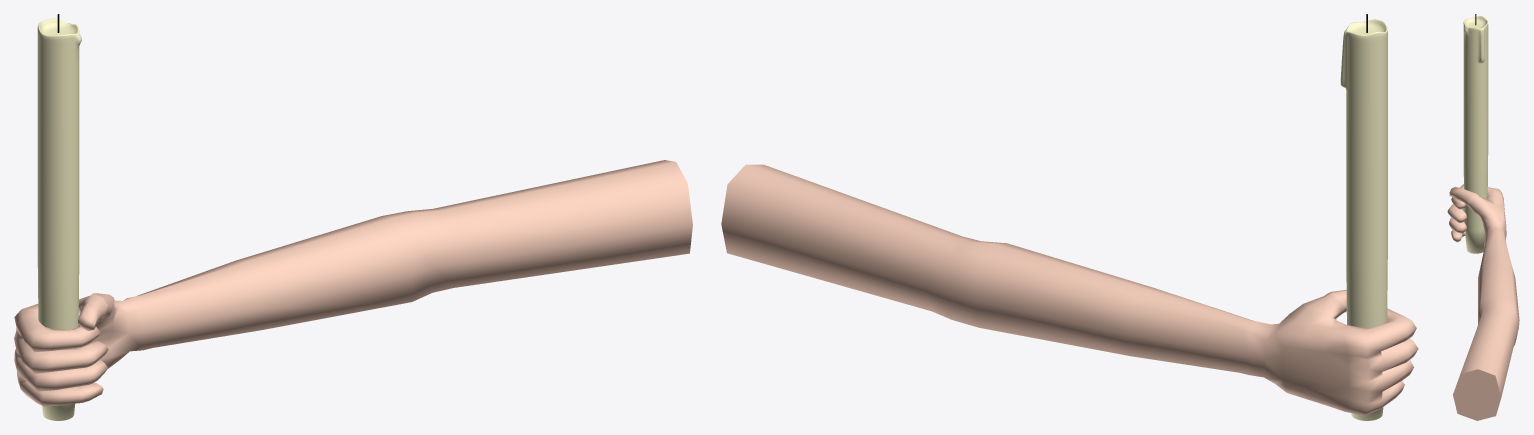
The model's file is ArmCandle.FBX.
3 views of the same model, side by side, from view 1: azimuth 30°, elevation 25°; view 2: azimuth 150°, elevation 25°; view 3: azimuth 270°, elevation 25° (orthographic). The views are drawn at different scales.
Parts seen in each view (by area): view 1: Arm, CandleBottom, CandleTop; view 2: Arm, CandleBottom, CandleTop; view 3: Arm, CandleBottom, CandleTop.
Boxes of the visible parts, left/top/right/bottom form: Arm: left=14, top=160, right=692, bottom=406; CandleBottom: left=37, top=93, right=79, bottom=420; CandleTop: left=37, top=18, right=81, bottom=100; Arm: left=721, top=164, right=1418, bottom=415; CandleBottom: left=1346, top=92, right=1387, bottom=420; CandleTop: left=1340, top=19, right=1387, bottom=100; Arm: left=1447, top=184, right=1519, bottom=420; CandleBottom: left=1463, top=60, right=1488, bottom=253; CandleTop: left=1463, top=16, right=1488, bottom=64.
Bounding box in the file's own units: 106 × 60.97 × 16.92.
1 material, 1 textured.
